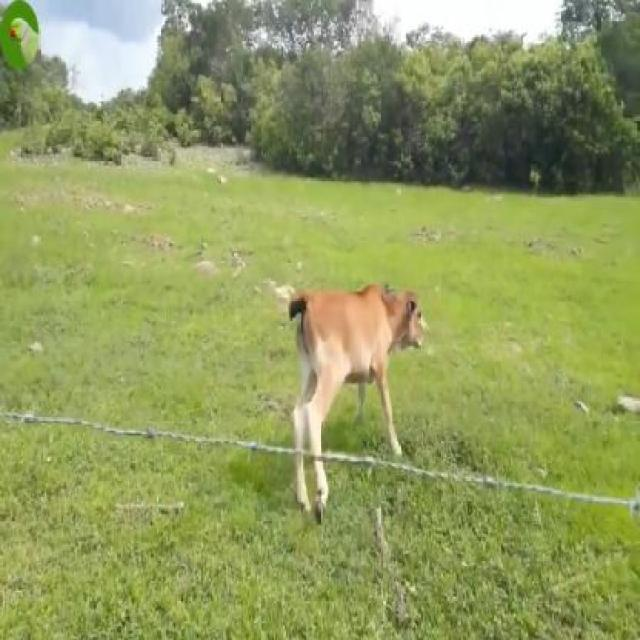Cow: (286, 285, 429, 517)
